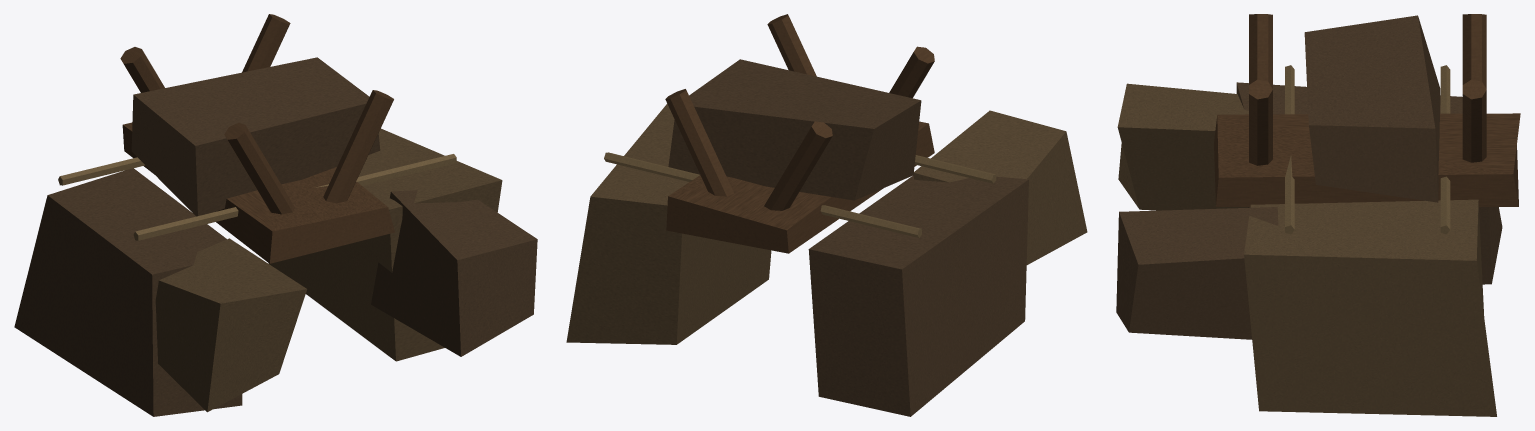
Rendered from camel-load.glb.
The picture shows the model from 3 angles, left to right: view 1: azimuth 30°, elevation 25°; view 2: azimuth 150°, elevation 25°; view 3: azimuth 270°, elevation 25°; orthographic projection. The views are drawn at different scales.
Visible parts, largest first — view 1: Cube; view 2: Cube; view 3: Cube.
Boxes of the visible parts, x1=… form: Cube: x1=14, y1=14, x2=537, y2=416; Cube: x1=566, y1=14, x2=1087, y2=416; Cube: x1=1116, y1=14, x2=1520, y2=416.
Bounding box in the file's own units: 0.8879 × 0.6429 × 0.8318.
1 material, 1 textured.
